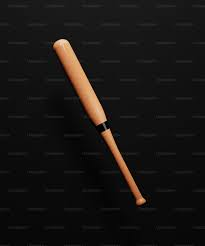baseball bat: (50, 35, 148, 209)
